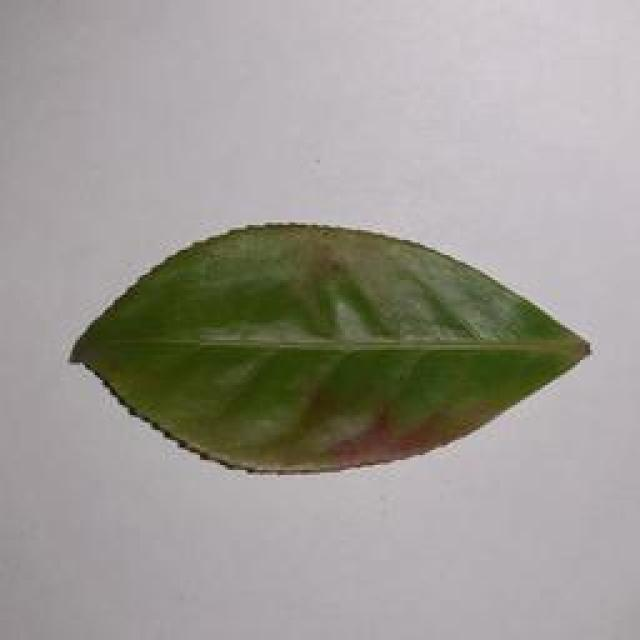Red Leaf Spot: (62, 210, 592, 469)
